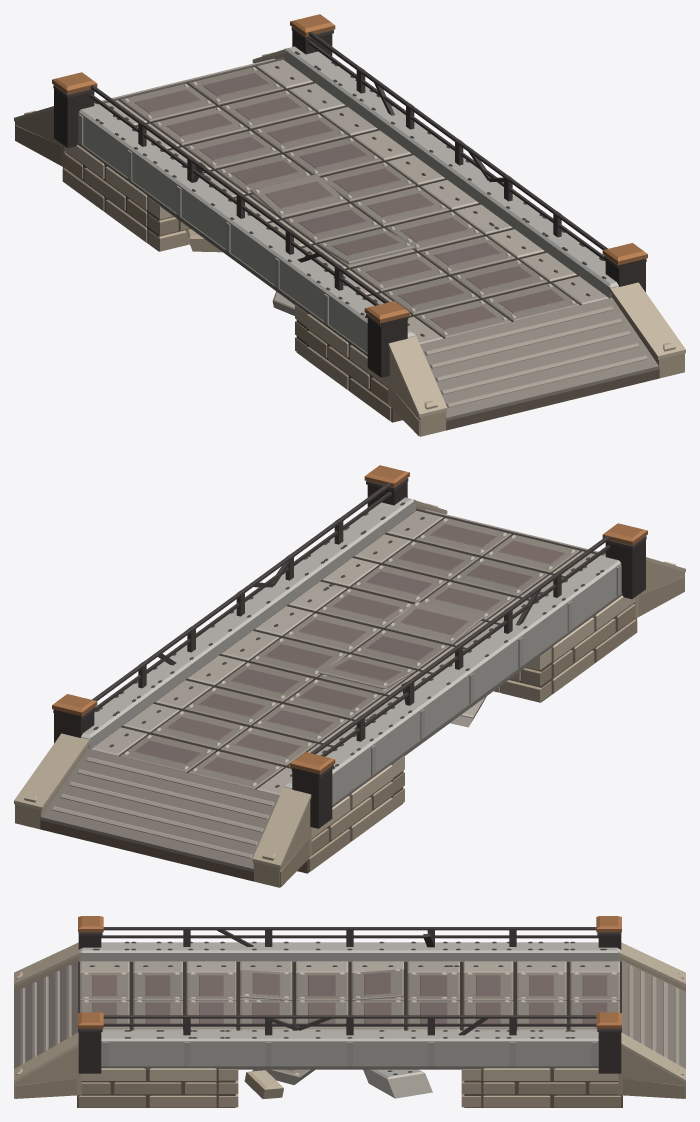
Rendered from BRG_desert.fbx.
The picture shows the model from 3 angles, top to bottom: view 1: azimuth 30°, elevation 25°; view 2: azimuth 150°, elevation 25°; view 3: azimuth 270°, elevation 25°; orthographic projection. The views are drawn at different scales.
Visible parts, largest first — view 1: BRGZ_desert_damaged_plate, BRGZ_desert_damaged_steel, BRGZ_desert_damaged_stone, BRGZ_desert_destroyed_steel, BRGZ_desert_intact_steel, BRGZ_desert_intact_plate, BRGZ_desert_destroyed_plate; view 2: BRGZ_desert_damaged_plate, BRGZ_desert_damaged_steel, BRGZ_desert_damaged_stone, BRGZ_desert_destroyed_steel, BRGZ_desert_intact_steel, BRGZ_desert_intact_plate, BRGZ_desert_destroyed_plate; view 3: BRGZ_desert_damaged_steel, BRGZ_desert_damaged_plate, BRGZ_desert_damaged_stone, BRGZ_desert_destroyed_steel, BRGZ_desert_intact_steel, BRGZ_desert_intact_plate, BRGZ_desert_destroyed_stone, BRGZ_desert_destroyed_plate.
Boxes of the visible parts, left/top/right/bottom form: BRGZ_desert_damaged_plate: left=101, top=57, right=659, bottom=421; BRGZ_desert_damaged_steel: left=52, top=14, right=647, bottom=377; BRGZ_desert_damaged_stone: left=14, top=49, right=685, bottom=436; BRGZ_desert_destroyed_steel: left=79, top=33, right=616, bottom=353; BRGZ_desert_intact_steel: left=187, top=32, right=613, bottom=293; BRGZ_desert_intact_plate: left=250, top=137, right=509, bottom=267; BRGZ_desert_destroyed_plate: left=201, top=154, right=512, bottom=309; BRGZ_desert_damaged_plate: left=40, top=508, right=598, bottom=871; BRGZ_desert_damaged_steel: left=52, top=465, right=647, bottom=828; BRGZ_desert_damaged_stone: left=14, top=500, right=685, bottom=887; BRGZ_desert_destroyed_steel: left=85, top=483, right=621, bottom=805; BRGZ_desert_intact_steel: left=84, top=482, right=451, bottom=747; BRGZ_desert_intact_plate: left=216, top=582, right=483, bottom=702; BRGZ_desert_destroyed_plate: left=287, top=581, right=485, bottom=721; BRGZ_desert_damaged_steel: left=78, top=916, right=621, bottom=1073; BRGZ_desert_damaged_plate: left=14, top=960, right=685, bottom=1068; BRGZ_desert_damaged_stone: left=14, top=942, right=685, bottom=1107; BRGZ_desert_destroyed_steel: left=78, top=927, right=621, bottom=1098; BRGZ_desert_intact_steel: left=101, top=928, right=598, bottom=1065; BRGZ_desert_intact_plate: left=240, top=965, right=459, bottom=1030; BRGZ_desert_destroyed_stone: left=244, top=1070, right=283, bottom=1098; BRGZ_desert_destroyed_plate: left=240, top=961, right=459, bottom=1077.
Bounding box in the file's own units: 7.85 × 3.05 × 20.57.
